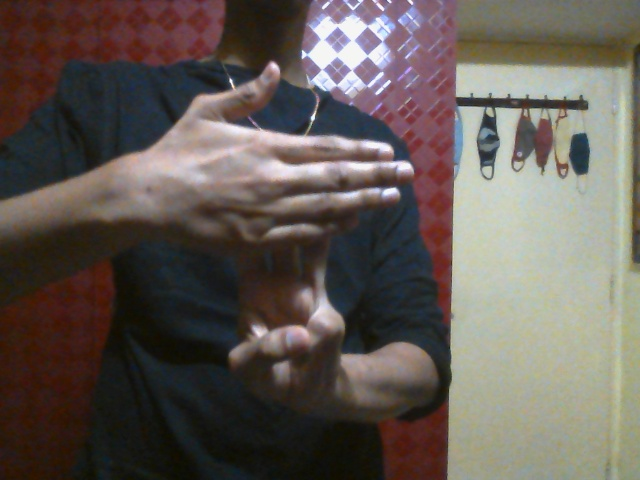M: (151, 58, 419, 412)
